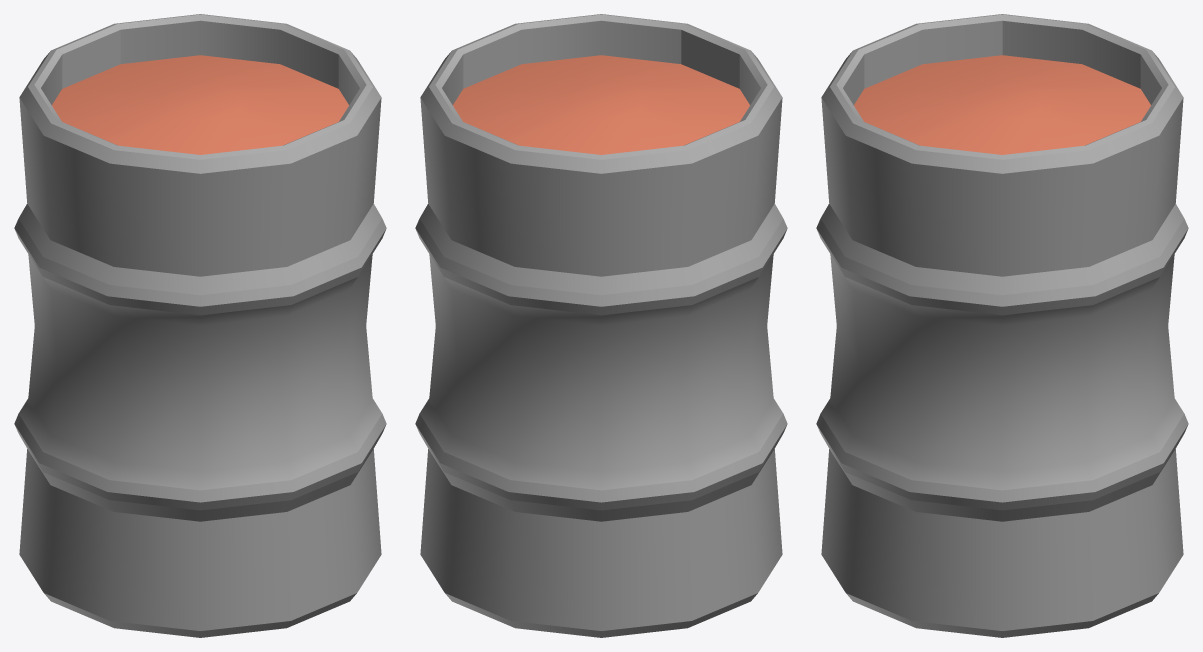
The model's file is SM_Baril_001.fbx.
3 views of the same model, side by side, from view 1: azimuth 30°, elevation 25°; view 2: azimuth 150°, elevation 25°; view 3: azimuth 270°, elevation 25° (orthographic).
Visible parts, largest first — view 1: Baril.001; view 2: Baril.001; view 3: Baril.001.
Part boxes in pixels (x1,y1,x2,y2): Baril.001: [14, 14, 386, 637]; Baril.001: [415, 14, 787, 637]; Baril.001: [816, 14, 1188, 637].
Size of the model in its own units: 73.23 by 105 by 73.23.
